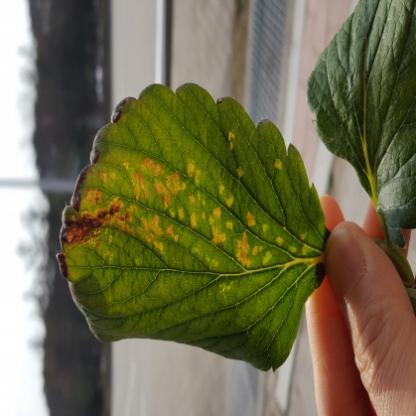Strawberry_Angular_LeafSpot: (54, 104, 314, 300)
